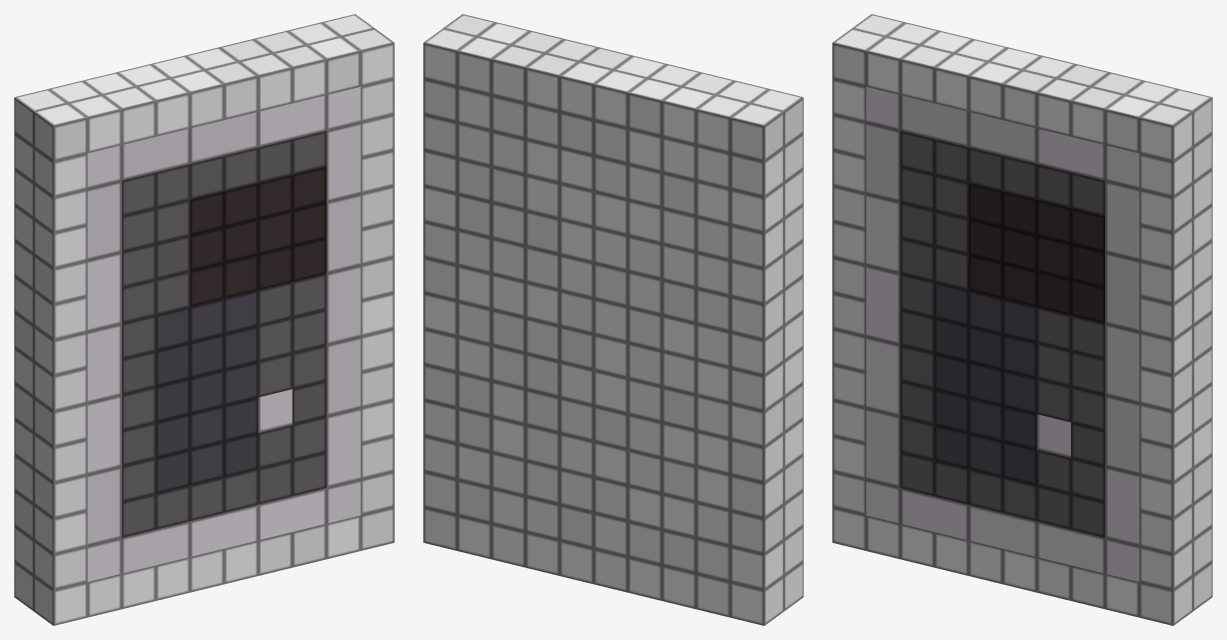
File: wall_picture_framed.glb
3 renders of one model, left to right at view 1: azimuth 30°, elevation 25°; view 2: azimuth 150°, elevation 25°; view 3: azimuth 330°, elevation 25°, orthographic.
Parts seen in each view (by area): view 1: wall_picture_framed; view 2: wall_picture_framed; view 3: wall_picture_framed.
Boxes of the visible parts, x1,y1,x2,y2 form: wall_picture_framed: (14, 14, 394, 625); wall_picture_framed: (423, 14, 803, 625); wall_picture_framed: (832, 14, 1212, 625).
Bounding box in the file's own units: 0.5 × 0.7 × 0.1.
5 materials, 5 textured.
